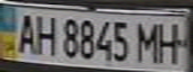4: (93, 17, 115, 62)
5: (112, 18, 136, 63)
8: (57, 15, 81, 60), (75, 16, 96, 61)
A: (12, 10, 39, 54)
H: (154, 18, 190, 64), (30, 11, 60, 56)
M: (133, 18, 163, 64)
